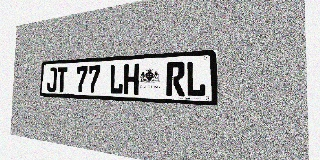7: (87, 65, 100, 94), (75, 66, 88, 93)
H: (123, 64, 139, 95)
J: (46, 67, 57, 92)
L: (185, 61, 206, 97), (109, 64, 124, 94)
R: (166, 62, 185, 96)
T: (56, 67, 68, 93)
